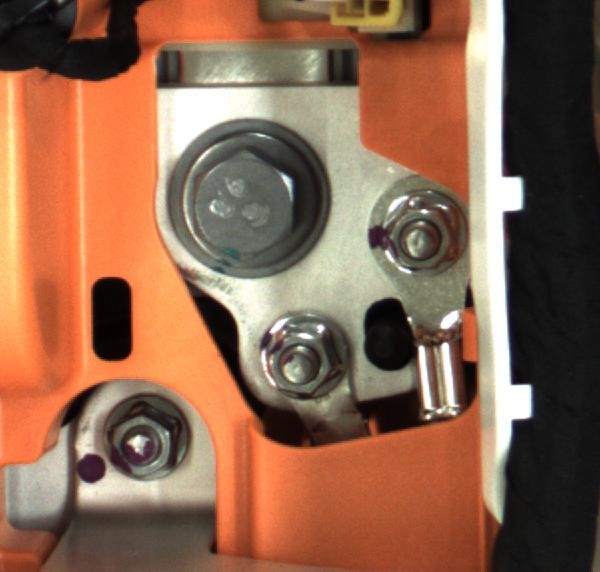nut_b: (175, 129, 324, 274)
screw_s: (372, 189, 484, 285), (257, 318, 368, 414), (96, 389, 191, 483)
